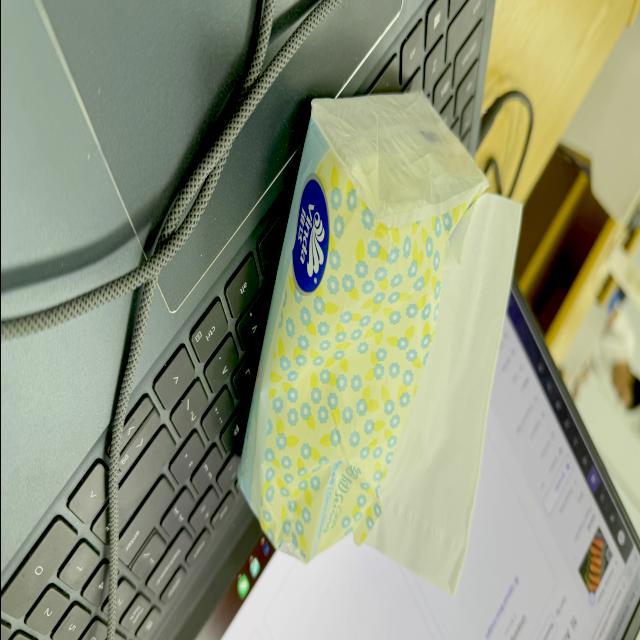tissue: (239, 95, 485, 591)
